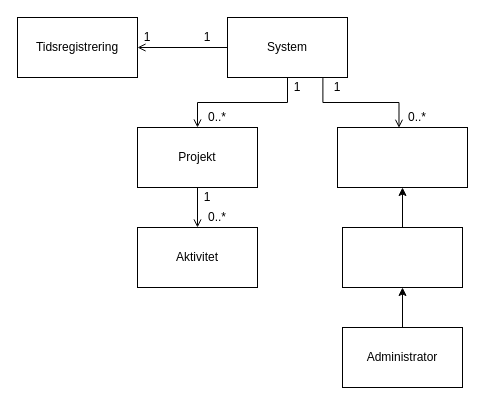
This 485x405 diagram has some shape labels left out. Each missing label, with the centre of its shape:
Medarbejder: point (402, 157)
Projektleder: point (402, 257)
